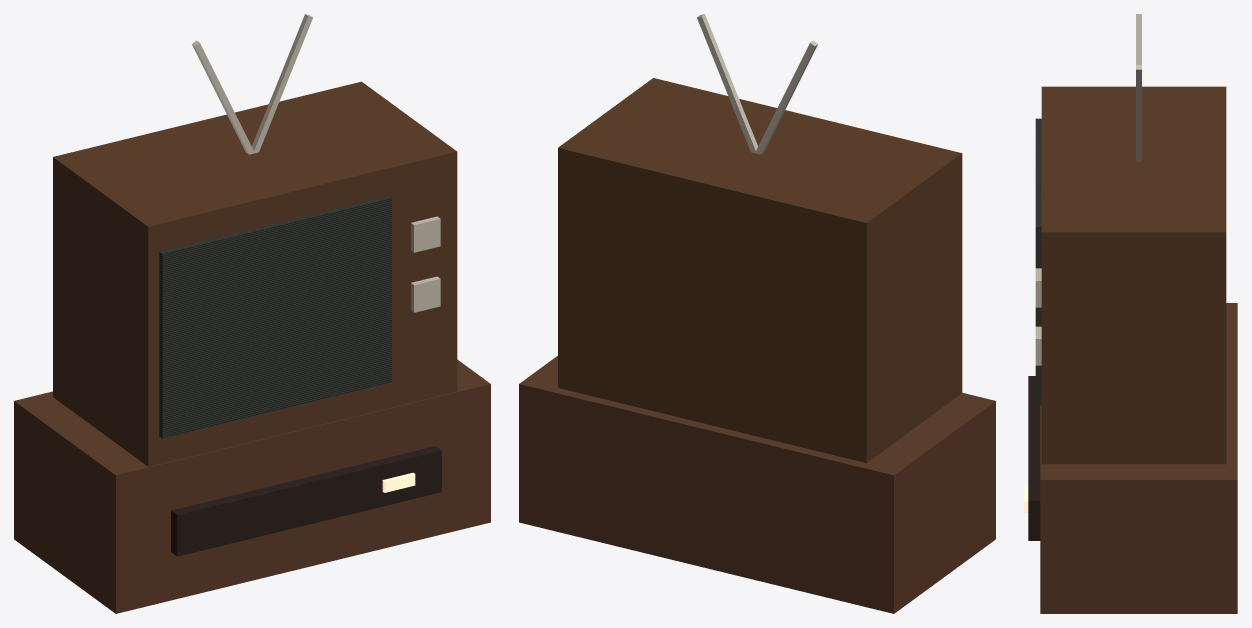
The picture shows the model from 3 angles, left to right: view 1: azimuth 30°, elevation 25°; view 2: azimuth 150°, elevation 25°; view 3: azimuth 270°, elevation 25°; orthographic projection. The views are drawn at different scales.
Parts seen in each view (by area): view 1: Box2, Box1, Box3, Box8, Box7, Box6, Box4, Box5; view 2: Box2, Box1, Box7, Box6; view 3: Box2, Box1, Box8, Box3, Box7, Box6.
Boxes of the visible parts, bbox=[...] form: Box2: bbox=[53, 81, 457, 466]; Box1: bbox=[14, 359, 490, 613]; Box3: bbox=[159, 196, 391, 438]; Box8: bbox=[171, 446, 441, 556]; Box7: bbox=[252, 14, 312, 153]; Box6: bbox=[192, 40, 254, 154]; Box4: bbox=[411, 216, 440, 252]; Box5: bbox=[411, 276, 440, 312]; Box2: bbox=[558, 78, 962, 462]; Box1: bbox=[519, 356, 995, 613]; Box7: bbox=[697, 14, 757, 153]; Box6: bbox=[755, 40, 817, 154]; Box2: bbox=[1041, 86, 1226, 464]; Box1: bbox=[1040, 303, 1237, 613]; Box8: bbox=[1028, 376, 1040, 540]; Box3: bbox=[1035, 118, 1041, 405]; Box7: bbox=[1136, 65, 1141, 161]; Box6: bbox=[1136, 14, 1141, 64].
Bounding box in the file's own units: 1.7 × 2.18 × 0.865.
6 materials, 1 textured.
